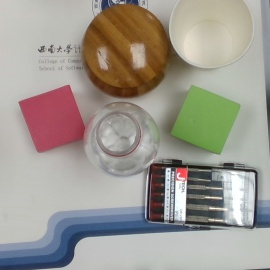bottle: (83, 101, 160, 178)
chess: (79, 4, 169, 95)
cup: (167, 2, 253, 68)
